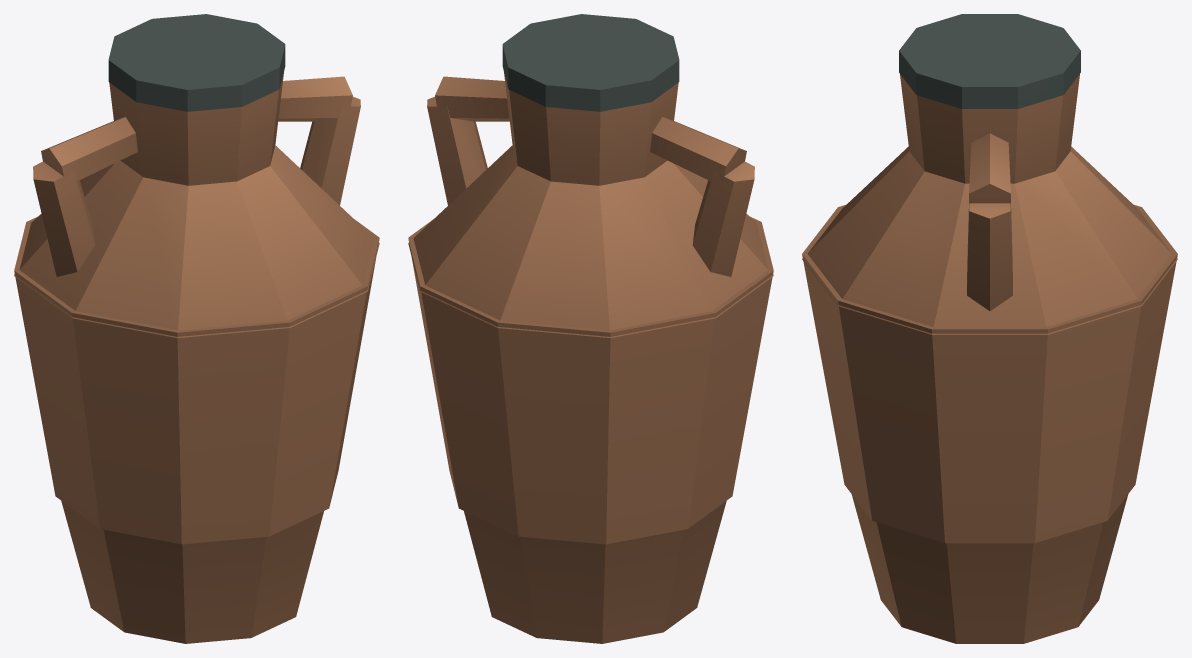
File: amphora.glb
3 renders of one model, left to right at view 1: azimuth 30°, elevation 25°; view 2: azimuth 150°, elevation 25°; view 3: azimuth 270°, elevation 25°, orthographic.
Visible parts, largest first — view 1: amphora; view 2: amphora; view 3: amphora.
Boxes of the visible parts, box(x1,y1,x2,y2) form: amphora: box(14, 14, 379, 643); amphora: box(408, 14, 773, 643); amphora: box(802, 14, 1177, 643).
Bounding box in the file's own units: 0.6266 × 1 × 0.62.
